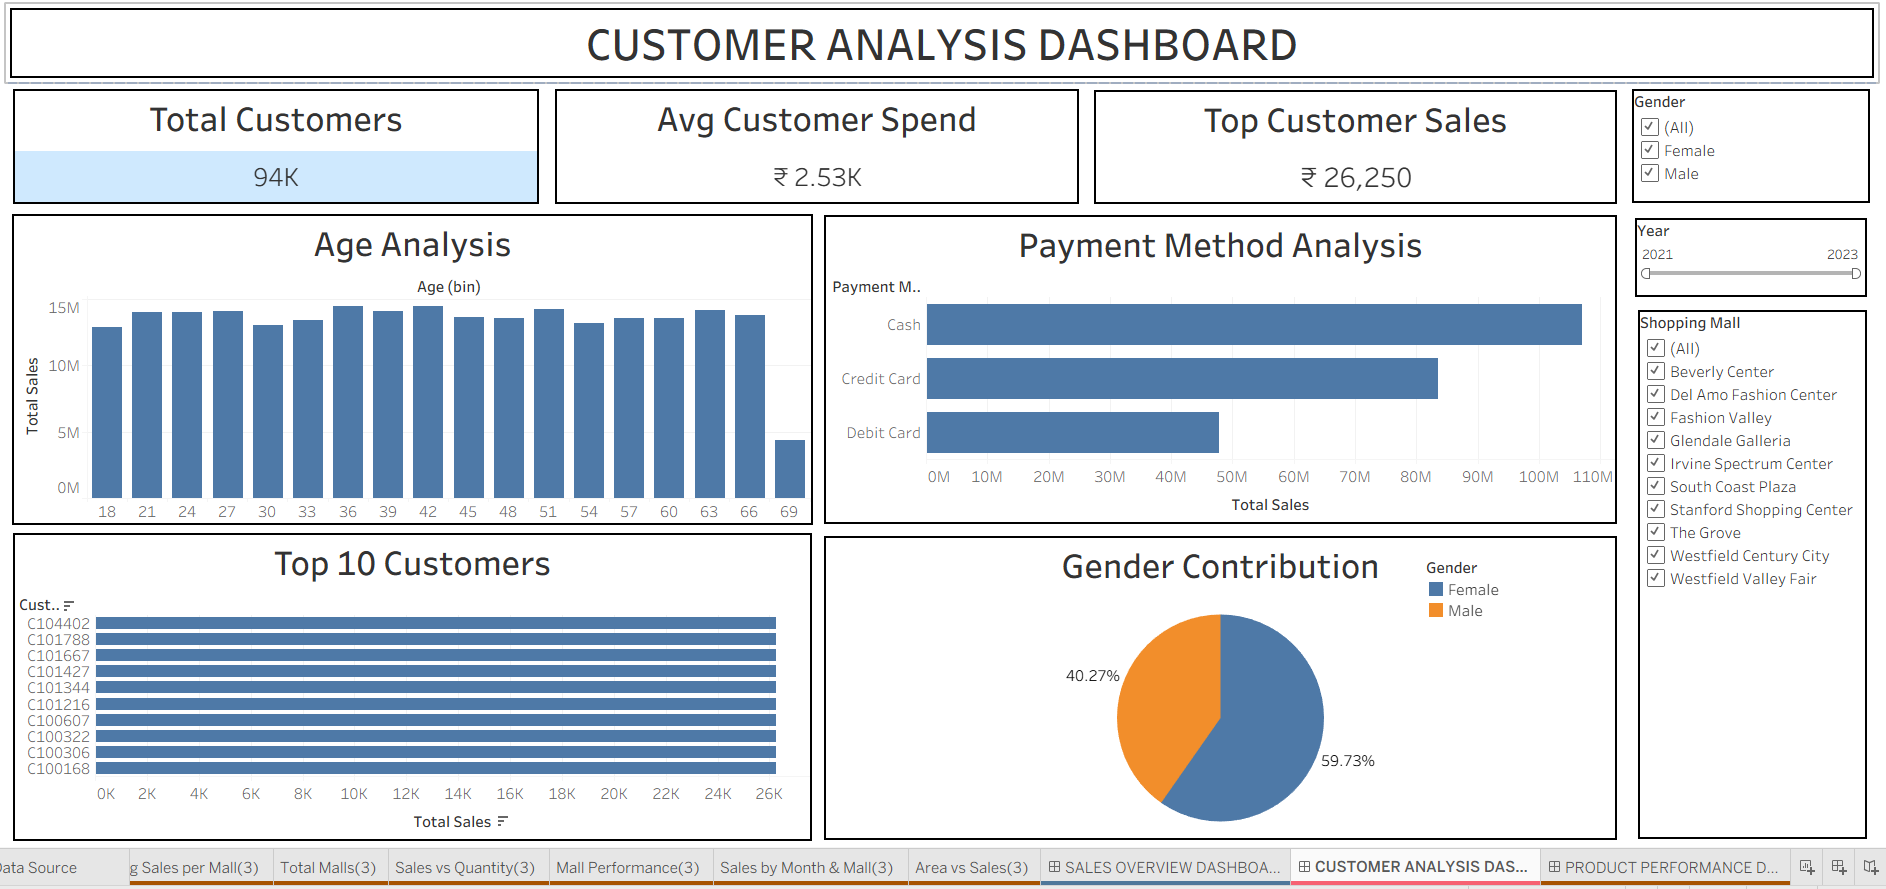

The page's visual inventory and layout, read from the dashboard file:
{"tool":"tableau","page":{"name":"CUSTOMER ANALYSIS DASHBOARD","canvas":[1000,1000],"units":"permille","ordinal":0},"visuals":[{"type":"title","box":[4.8,9.4,990.3,91.7]},{"type":"worksheet","title":"Total Customer(2)","mark":"Automatic","box":[7.9,109.3,278.8,135.1]},{"type":"worksheet","title":"Avg Customer Spend(2)","mark":"Automatic","box":[295.1,109.3,277.6,135.1]},{"type":"filter","title":"Age Analysis(2)","param":"[federated.1odhrio1aof2uv17c4m0p1lilno2].[none:gender:nk]","box":[865.4,109.3,126.1,134]},{"type":"worksheet","title":"Top Customer Sales(2)","mark":"Automatic","box":[580.6,110.5,277,134]},{"type":"worksheet","title":"Age Analysis(2)","mark":"Automatic","rows":["total_sales"],"cols":["Age (bin)"],"box":[7.2,256.2,424.3,365.4]},{"type":"worksheet","title":"Payment Method Analysis(2)","mark":"Automatic","rows":["payment_method"],"cols":["total_sales"],"box":[437.5,257.3,420,363.1]},{"type":"filter","title":"Age Analysis(2)","param":"[federated.1odhrio1aof2uv17c4m0p1lilno2].[none:year:qk]","box":[867.2,260.9,123.1,92.8]},{"type":"filter","title":"Age Analysis(2)","param":"[federated.1odhrio1aof2uv17c4m0p1lilno2].[none:shopping_mall:nk]","box":[868.4,369,121.3,621.6]},{"type":"worksheet","title":"Top 10 Customers(2)","mark":"Automatic","rows":["customer_id"],"cols":["total_sales"],"box":[7.9,631,423.1,361.9]},{"type":"worksheet","title":"Gender Contribution(2)","mark":"Pie","box":[437.5,634.6,420,357.2]},{"type":"legend","title":"Gender Contribution(2)","param":"[federated.1odhrio1aof2uv17c4m0p1lilno2].[none:gender:nk]","box":[756.2,659.2,84.5,75.2]}]}

Visuals, with their boxes on the dashboard's canvas, which has no fixed pixel size, in thousandths of its width and height (x1, y1, x2, y2). These are canvas units, not pixel positions in the 1886x889 screenshot, which may show the page scaled, cropped or inside an application window:
title: <bbox>5, 9, 995, 101</bbox>
"Total Customer(2)" worksheet: <bbox>8, 109, 287, 244</bbox>
"Avg Customer Spend(2)" worksheet: <bbox>295, 109, 573, 244</bbox>
"Age Analysis(2)" filter: <bbox>865, 109, 992, 243</bbox>
"Top Customer Sales(2)" worksheet: <bbox>581, 110, 858, 244</bbox>
"Age Analysis(2)" worksheet: <bbox>7, 256, 432, 622</bbox>
"Payment Method Analysis(2)" worksheet: <bbox>438, 257, 858, 620</bbox>
"Age Analysis(2)" filter: <bbox>867, 261, 990, 354</bbox>
"Age Analysis(2)" filter: <bbox>868, 369, 990, 991</bbox>
"Top 10 Customers(2)" worksheet: <bbox>8, 631, 431, 993</bbox>
"Gender Contribution(2)" worksheet (Pie marks): <bbox>438, 635, 858, 992</bbox>
"Gender Contribution(2)" legend: <bbox>756, 659, 841, 734</bbox>
